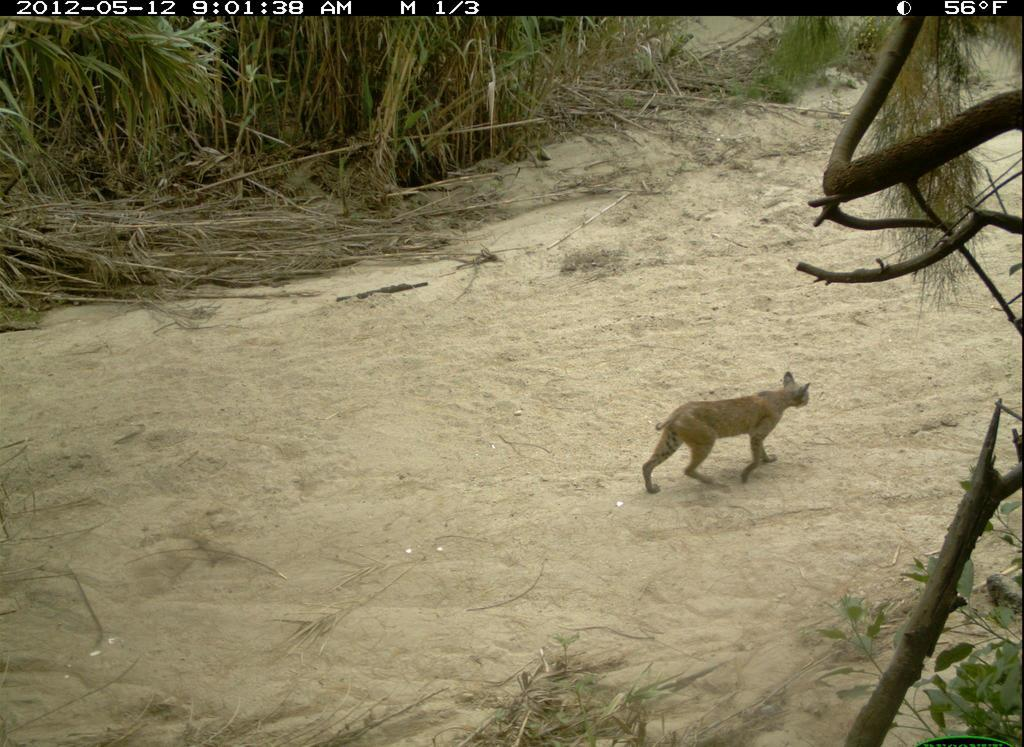bobcat: (632, 369, 826, 505)
